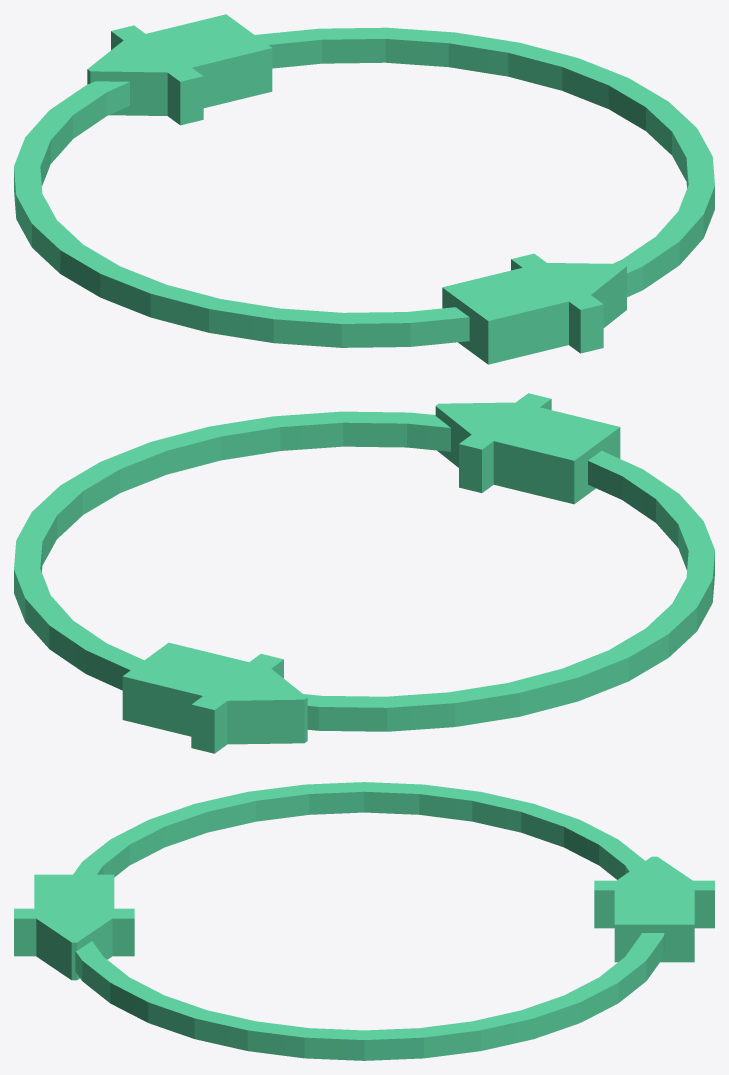
The model's file is RotateGimbal.fbx.
3 renders of one model, top to bottom at view 1: azimuth 30°, elevation 25°; view 2: azimuth 150°, elevation 25°; view 3: azimuth 270°, elevation 25°, orthographic. The views are drawn at different scales.
Visible parts, largest first — view 1: Circle; view 2: Circle; view 3: Circle.
Part boxes in pixels (bbox=[...]): Circle: bbox=[14, 14, 714, 364]; Circle: bbox=[14, 393, 714, 753]; Circle: bbox=[14, 782, 714, 1060].
Size of the model in its own units: 1173 by 80.34 by 1347.
